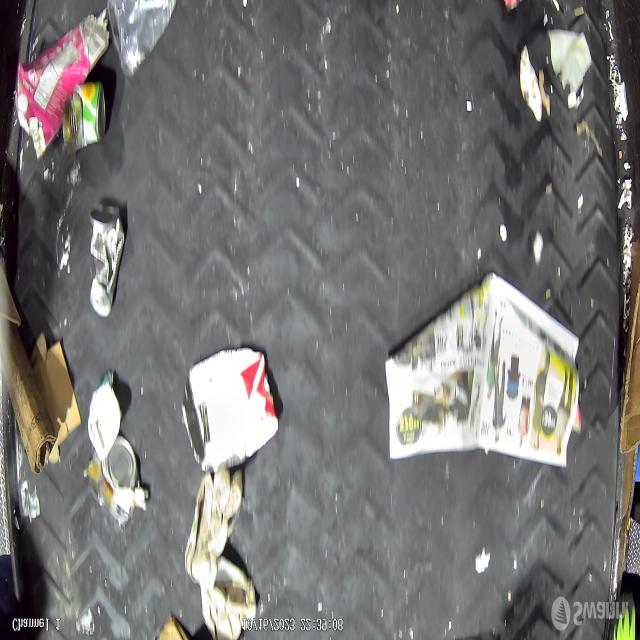can: (83, 434, 141, 529), (88, 207, 128, 320), (62, 81, 106, 155)
non_white_jug: (182, 348, 278, 472)
